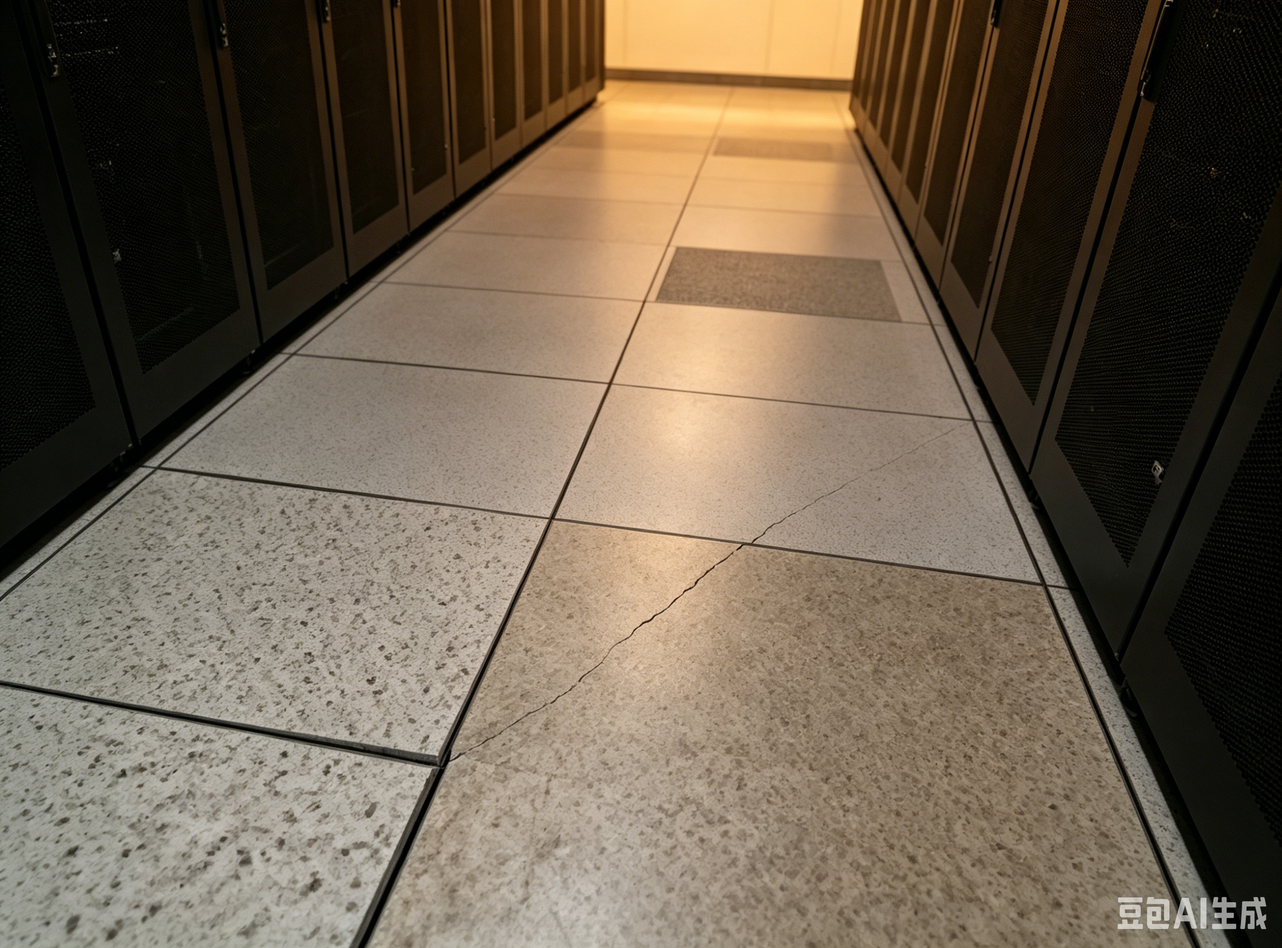floor_defect: (43, 685, 453, 780), (661, 546, 756, 587), (448, 713, 532, 759), (514, 673, 601, 714), (756, 496, 830, 544), (629, 586, 685, 635), (565, 637, 653, 668)
